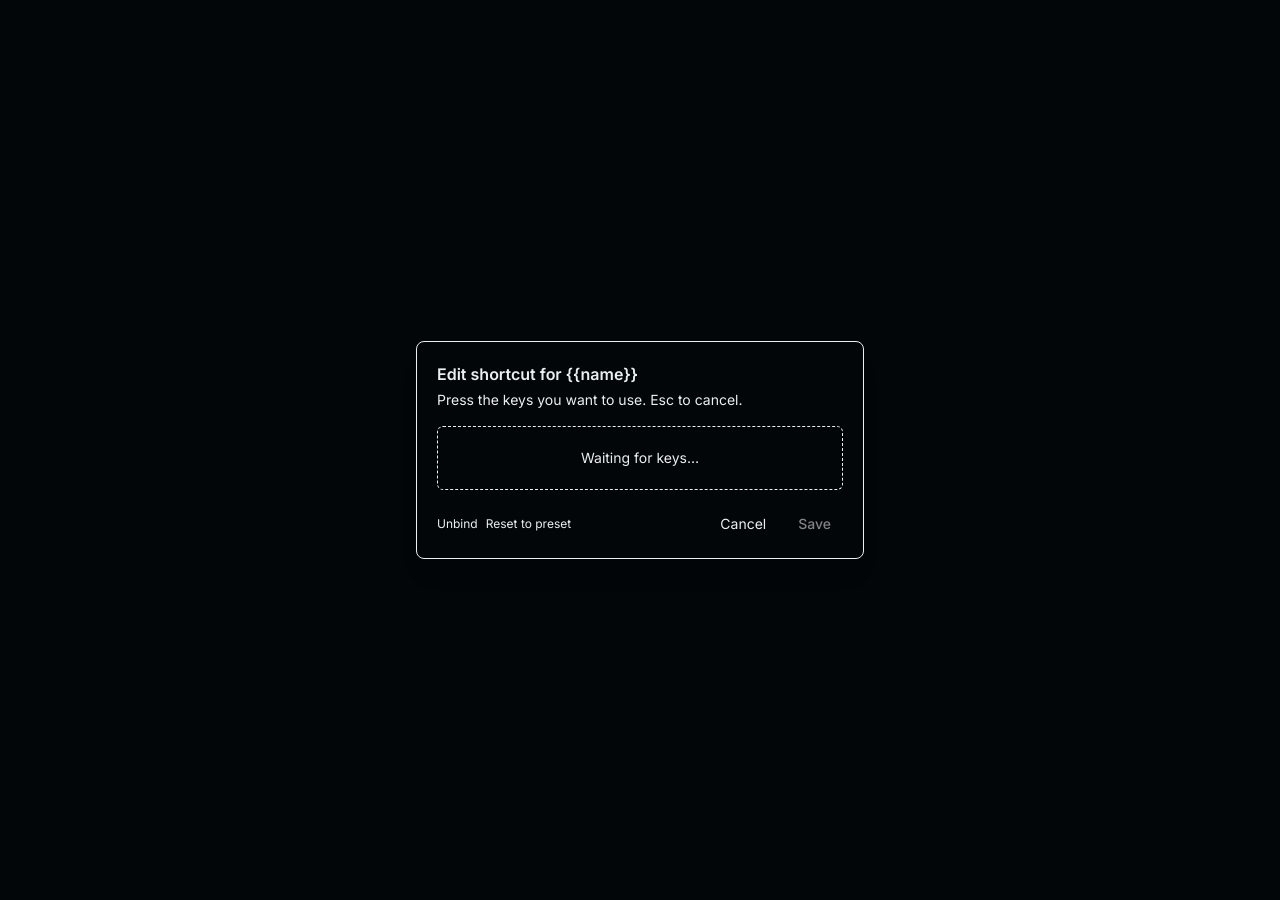
Scenario: RecordBindingDialog › surfaces an error when unbind rejects with an Error
Click the button "Unbind". click: point(457, 524)
box: [437,516,478,532]
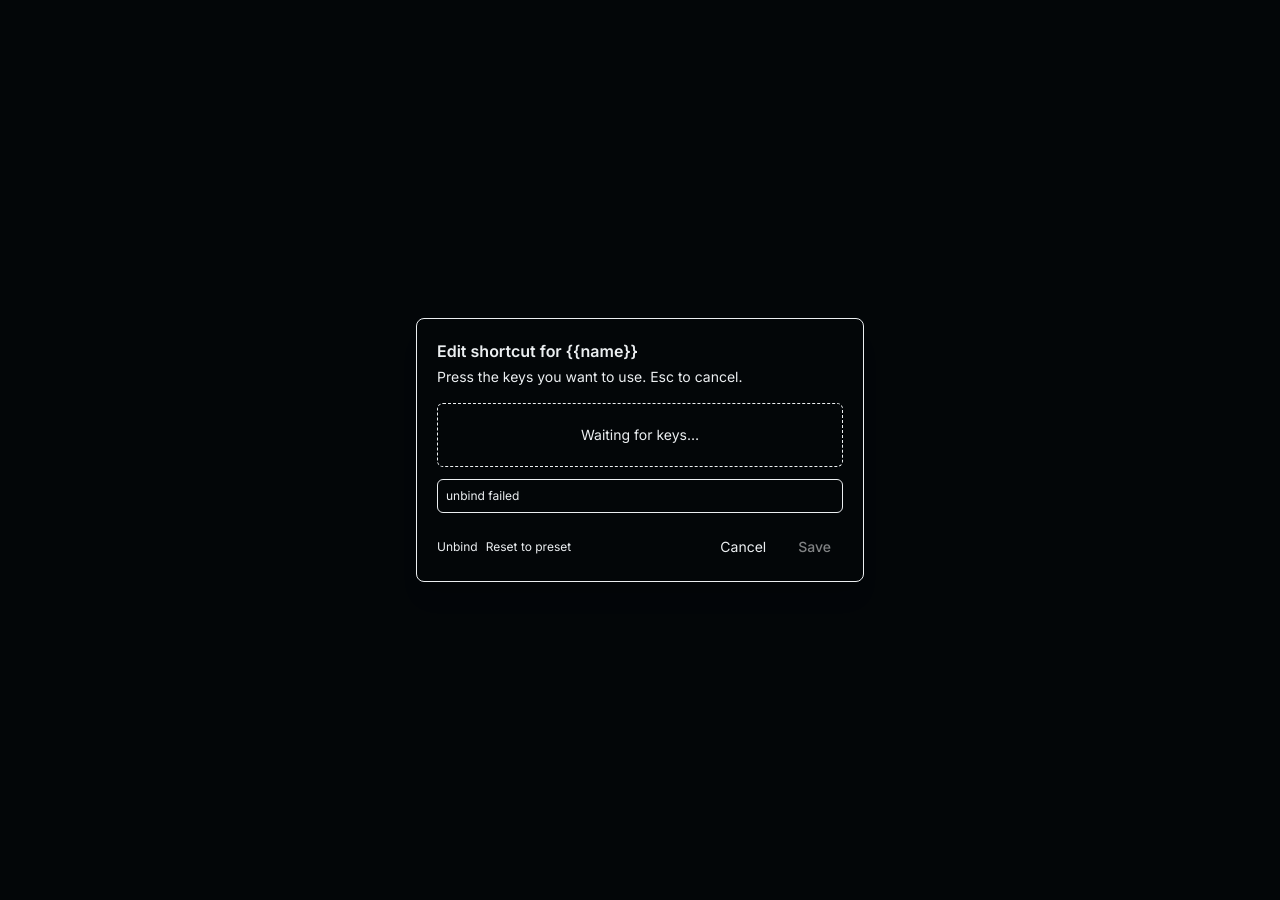
expect the text "unbind failed" is shown: met, box [437,479,843,513]
